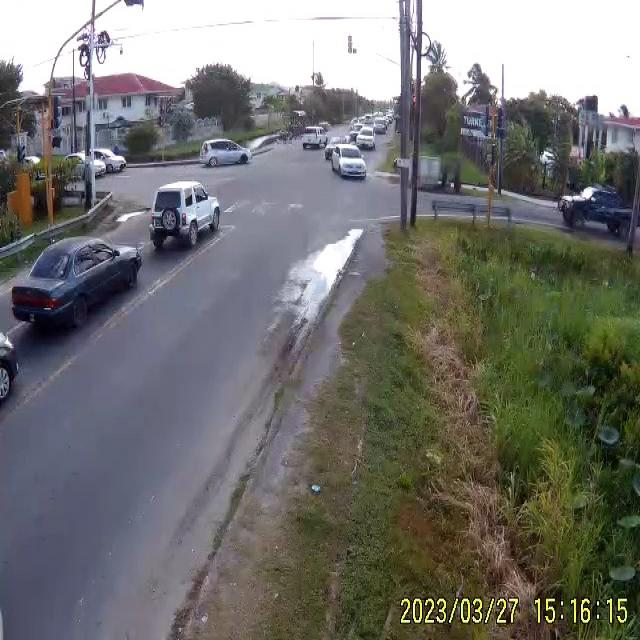car: (11, 237, 141, 336), (149, 181, 221, 250), (562, 188, 628, 234), (201, 140, 252, 168), (330, 146, 367, 180), (89, 149, 126, 175), (302, 127, 328, 149), (356, 128, 377, 149)
